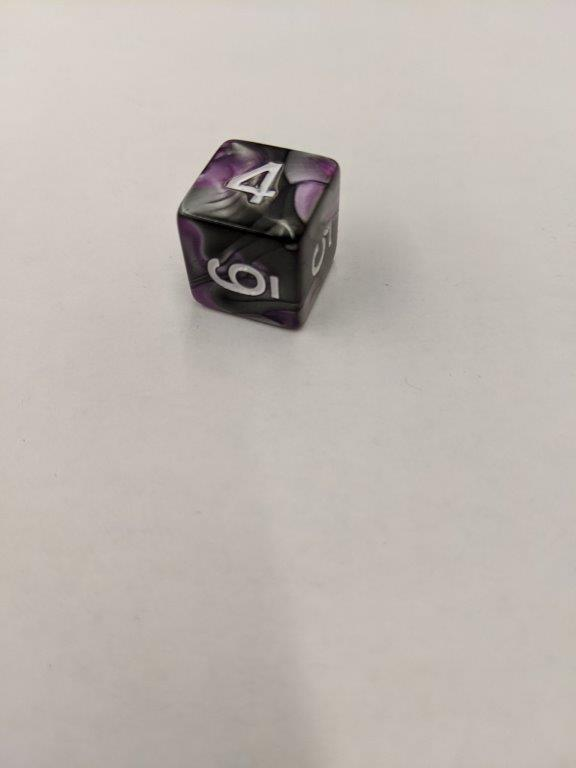d6-4: (179, 139, 343, 333)
